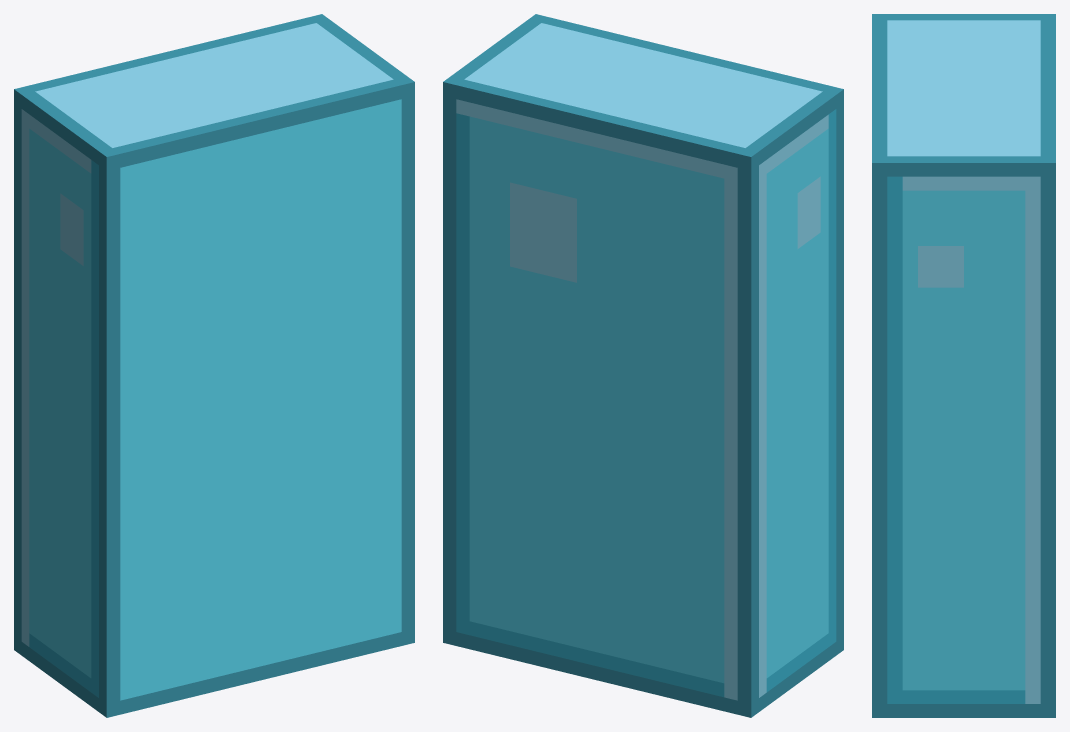
The model's file is GlassBlock-0.obj.
The picture shows the model from 3 angles, left to right: view 1: azimuth 30°, elevation 25°; view 2: azimuth 150°, elevation 25°; view 3: azimuth 270°, elevation 25°; orthographic projection.
Bounding box in the file's own units: 2.3 × 4 × 1.2.
1 material, 1 textured.
